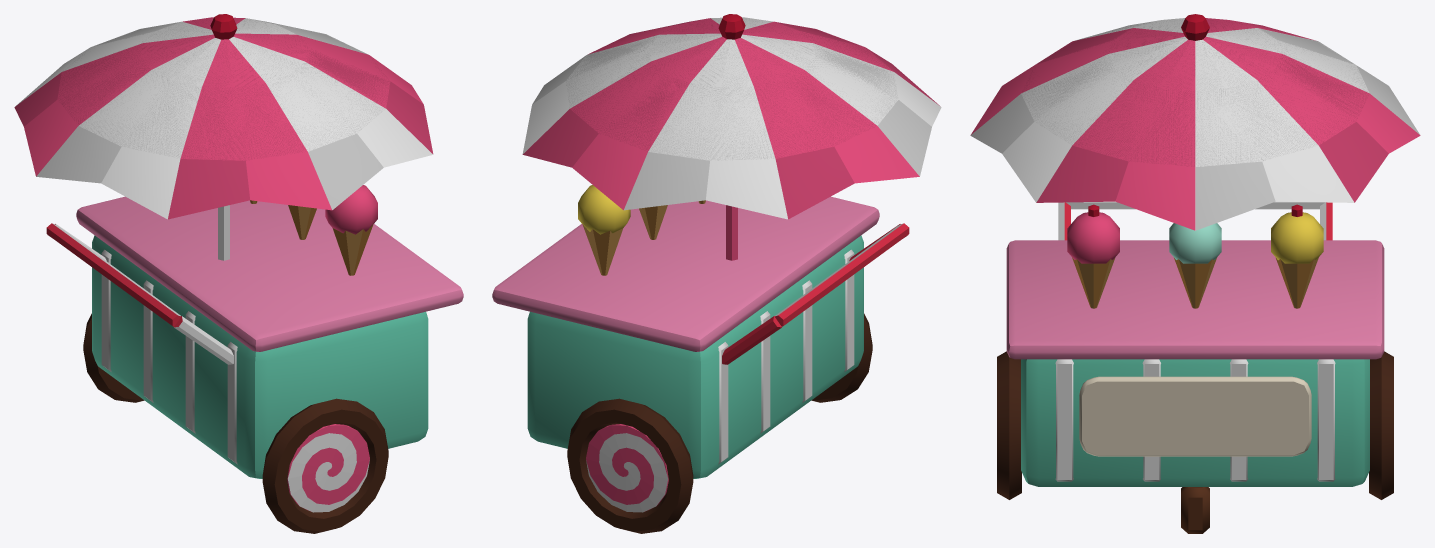
File: stand_trails.glb
3 views of the same model, side by side, from view 1: azimuth 30°, elevation 25°; view 2: azimuth 150°, elevation 25°; view 3: azimuth 270°, elevation 25° (orthographic). The views are drawn at different scales.
Parts seen in each view (by area): view 1: stand_trails; view 2: stand_trails; view 3: stand_trails.
Boxes of the visible parts, box(x1,y1,x2,y2) form: stand_trails: box(14, 14, 463, 533); stand_trails: box(492, 14, 941, 533); stand_trails: box(970, 14, 1420, 533).
Bounding box in the file's own units: 3.1 × 3.58 × 3.1.
